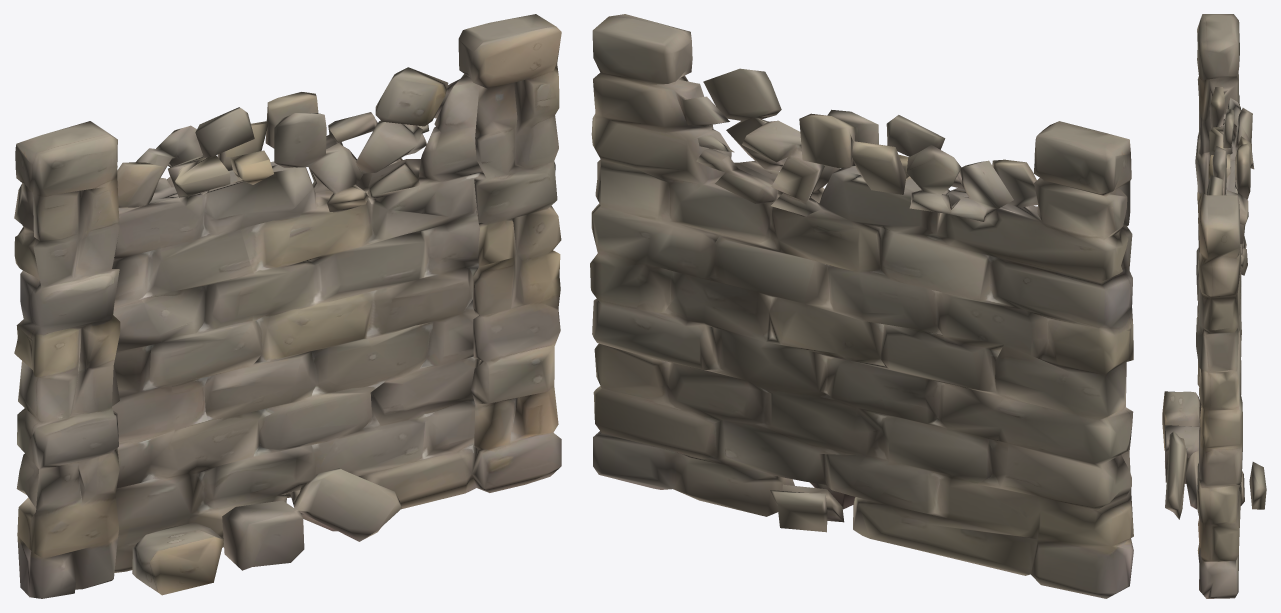
Rendered from cr_wall_broken-DkmI_Drj.glb.
3 renders of one model, left to right at view 1: azimuth 30°, elevation 25°; view 2: azimuth 150°, elevation 25°; view 3: azimuth 270°, elevation 25°, orthographic. The views are drawn at different scales.
Visible parts, largest first — view 1: tripo_node_1bf041ab-358f-4833-b755-eaf4709629f9; view 2: tripo_node_1bf041ab-358f-4833-b755-eaf4709629f9; view 3: tripo_node_1bf041ab-358f-4833-b755-eaf4709629f9.
Part boxes in pixels (x1,y1,x2,y2): tripo_node_1bf041ab-358f-4833-b755-eaf4709629f9: (14, 14, 561, 598); tripo_node_1bf041ab-358f-4833-b755-eaf4709629f9: (590, 14, 1133, 598); tripo_node_1bf041ab-358f-4833-b755-eaf4709629f9: (1162, 14, 1266, 598).
Bounding box in the file's own units: 4.9 × 4 × 1.
Materials: 1 (1 with a texture image).
